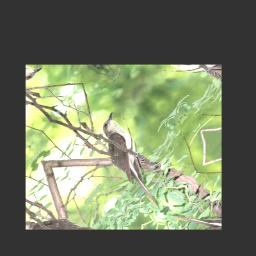Cuckoo: (75, 112, 196, 209)
